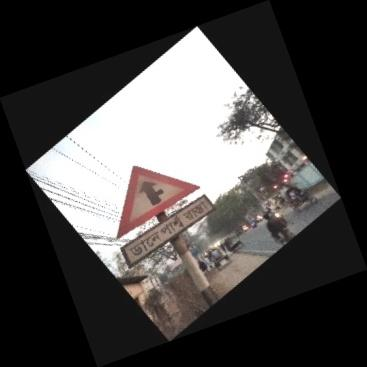Side-road-right: (118, 166, 214, 267)
